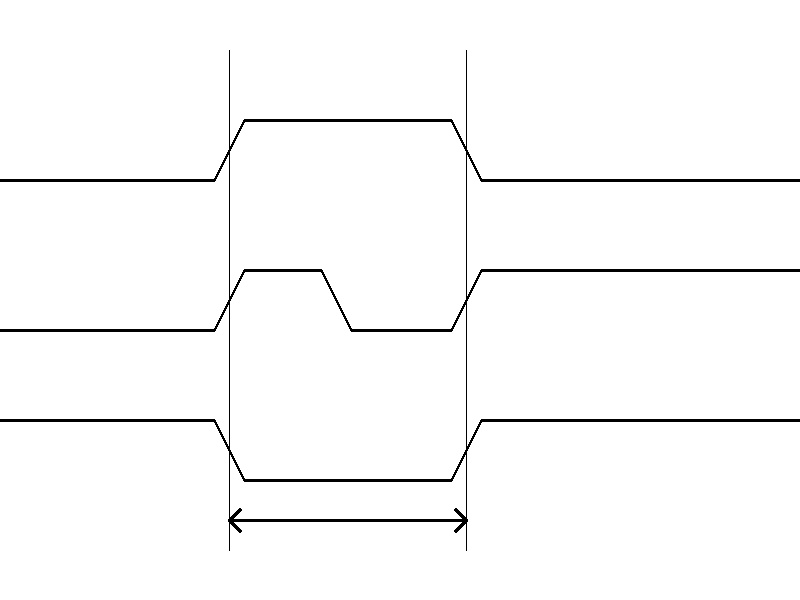double_arrow: (229, 505, 466, 535)
